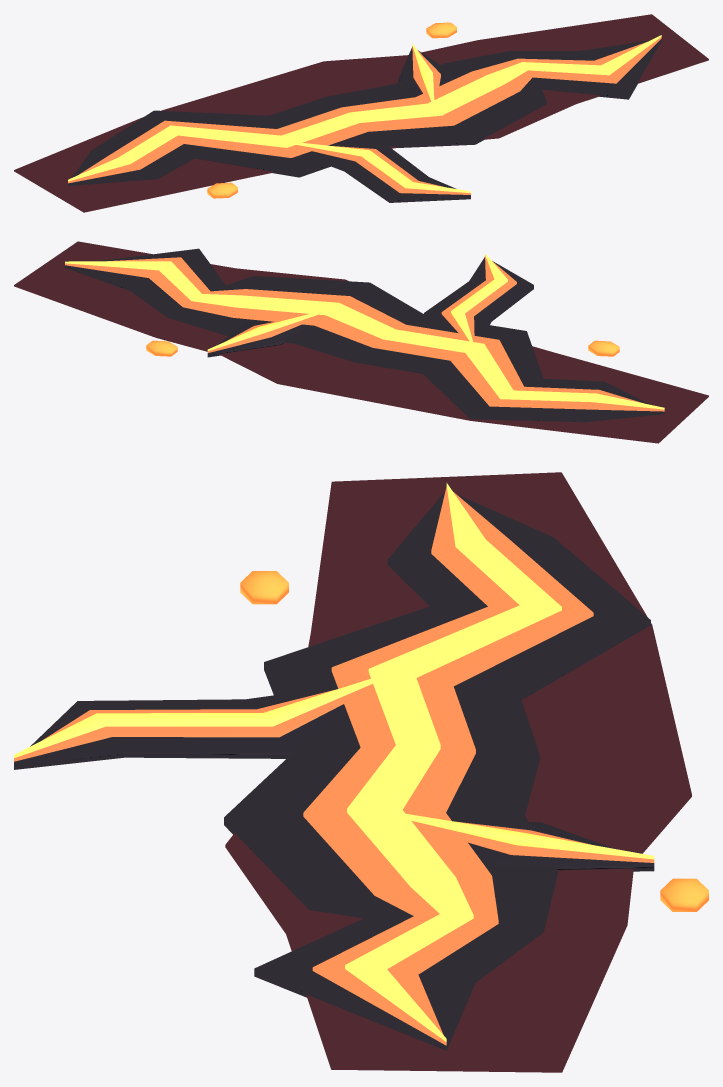
Rendered from lava_crack.glb.
The picture shows the model from 3 angles, top to bottom: view 1: azimuth 30°, elevation 25°; view 2: azimuth 150°, elevation 25°; view 3: azimuth 270°, elevation 25°; orthographic projection. The views are drawn at different scales.
Visible parts, largest first — view 1: Crack; view 2: Crack; view 3: Crack.
Part boxes in pixels (x1=…): Crack: x1=14, y1=14, x2=708, y2=212; Crack: x1=14, y1=241, x2=708, y2=443; Crack: x1=14, y1=472, x2=708, y2=1072.
Bounding box in the file's own units: 1.01 × 0.0164 × 0.4963.
